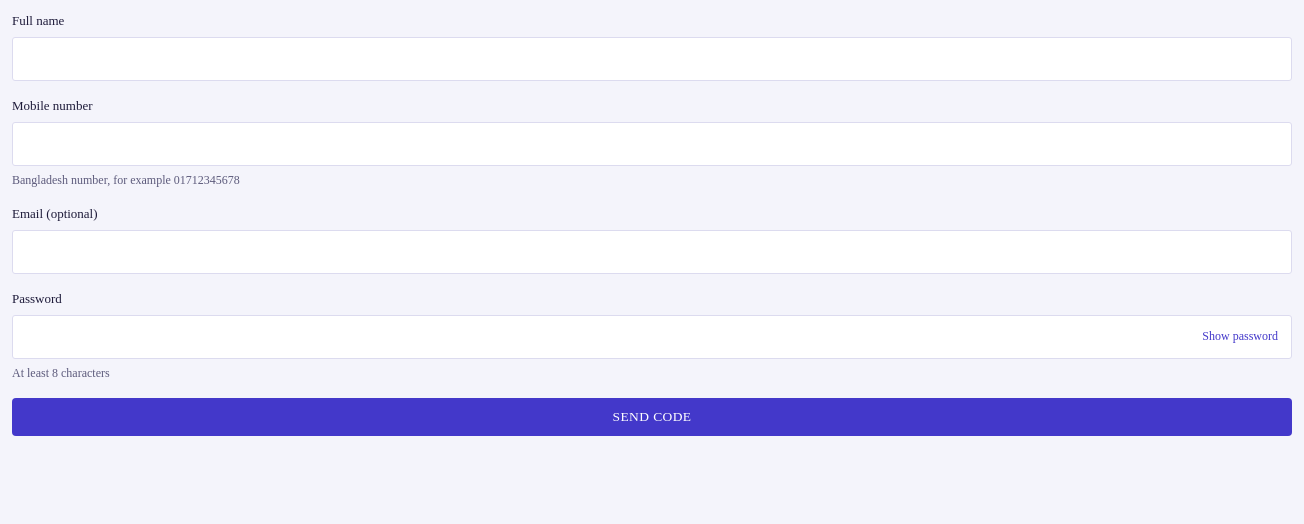
SignupForm › validates the details before asking for a code
This screenshot has width=1304, height=524.
Type "12" into the field labelled "Mobile number" at [652, 144], box [12,122,1292,166]
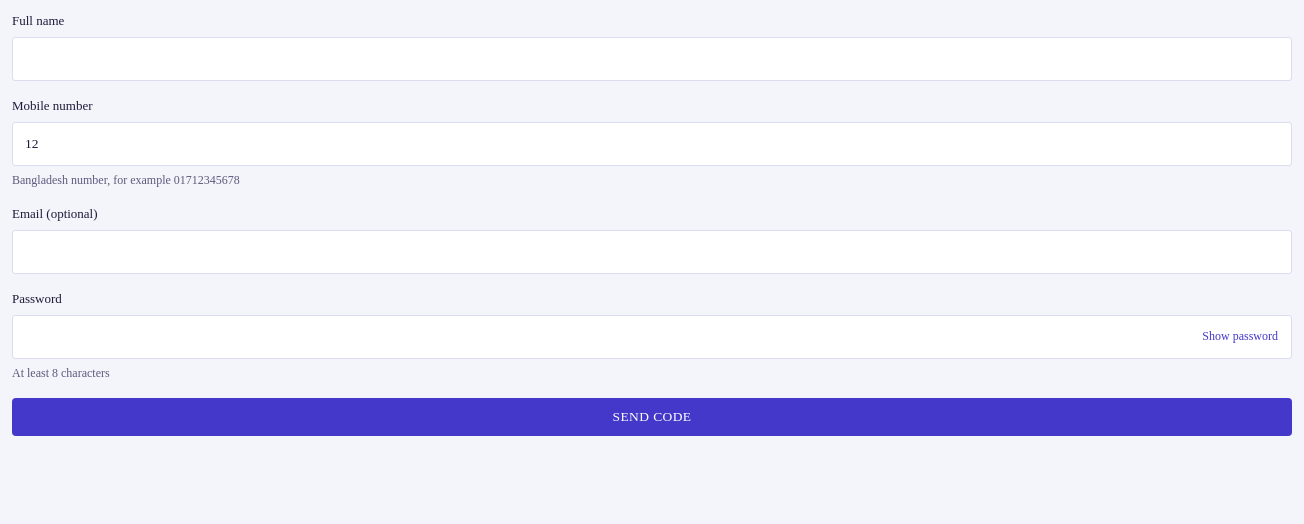
Type "short" into the password field labelled "Password" at [652, 337], box [12,315,1292,359]
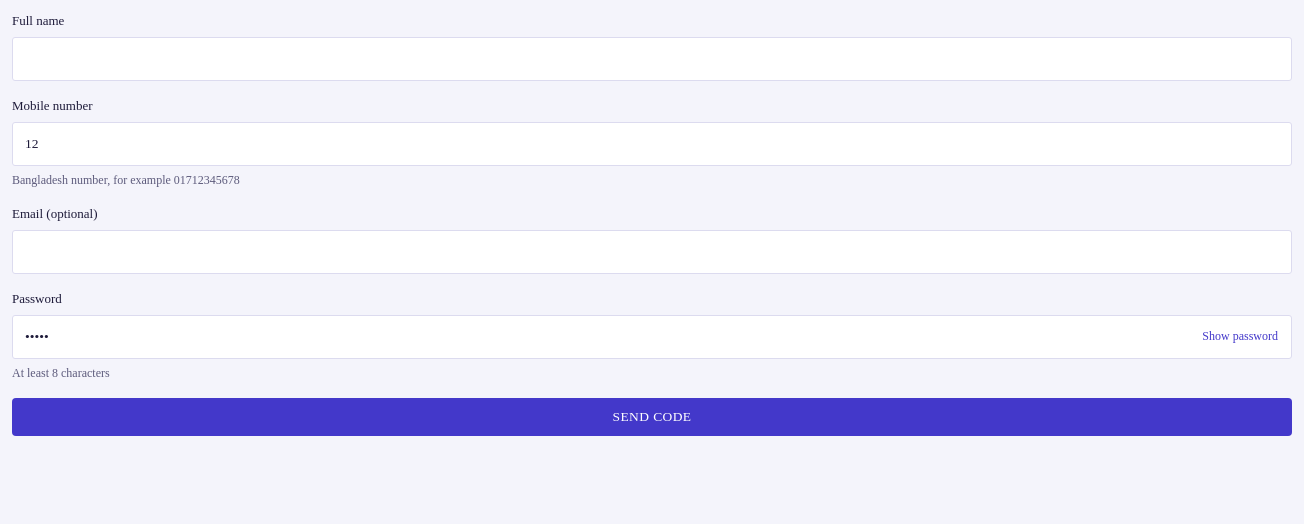
Click the button "Send code" at [652, 417], box [12,398,1292,436]
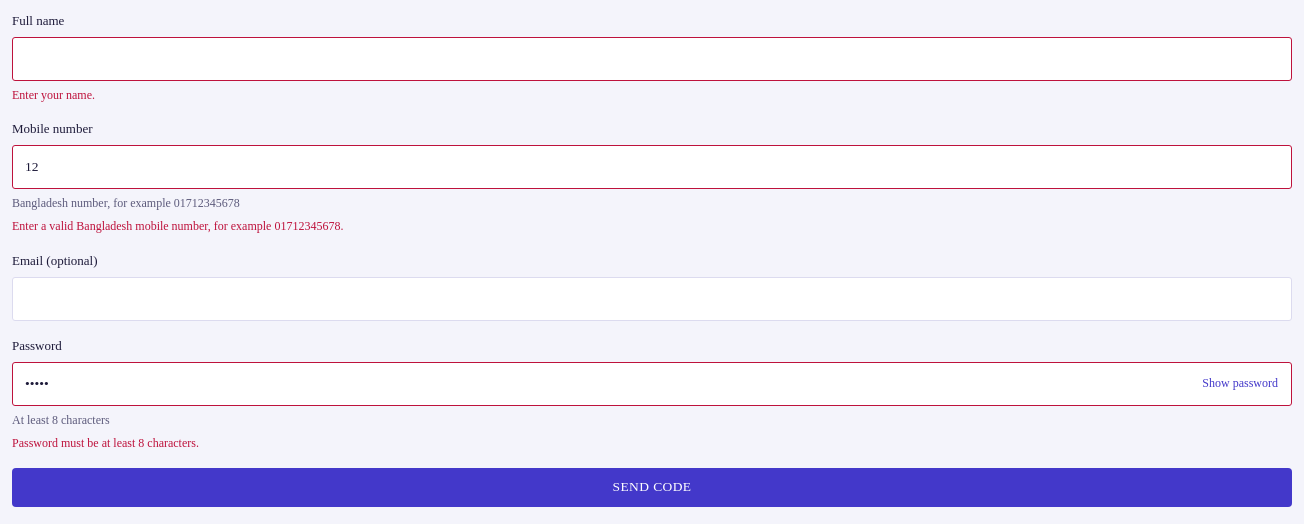
Check: the text "Enter your name." is shown, box [12,88,95,102]
Check: the text "Enter a valid Bangladesh mobile number, for example 01712345678." is shown, box [12,220,343,234]
Check: the text "Password must be at least 8 characters." is shown, box [12,436,199,450]
